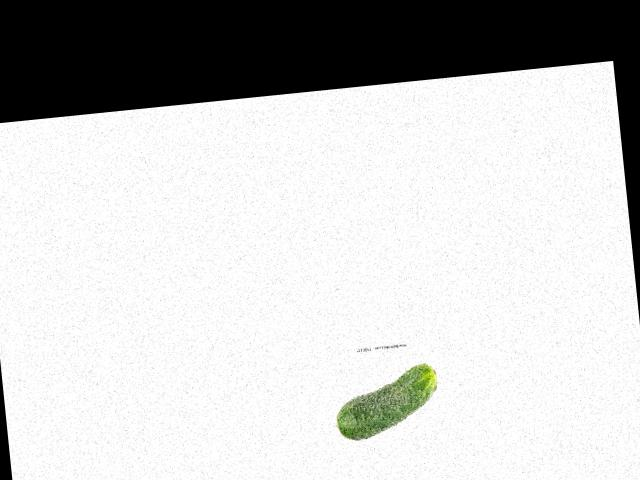cucumber: (330, 362, 441, 442)
